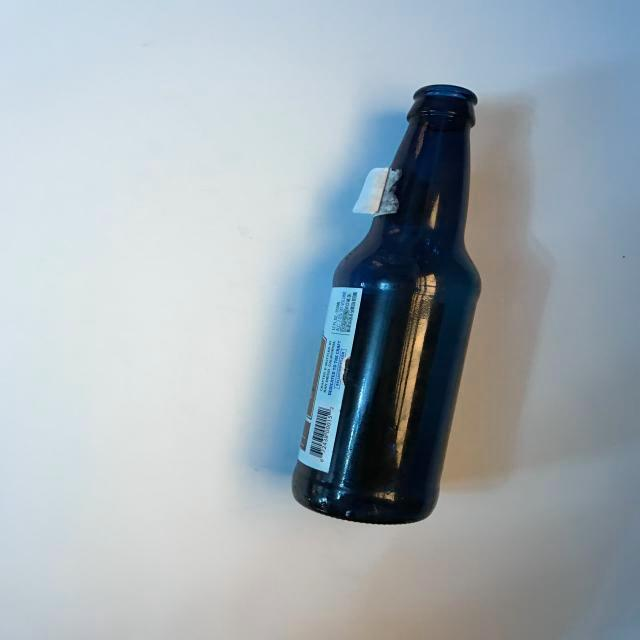glass: (266, 70, 510, 559)
